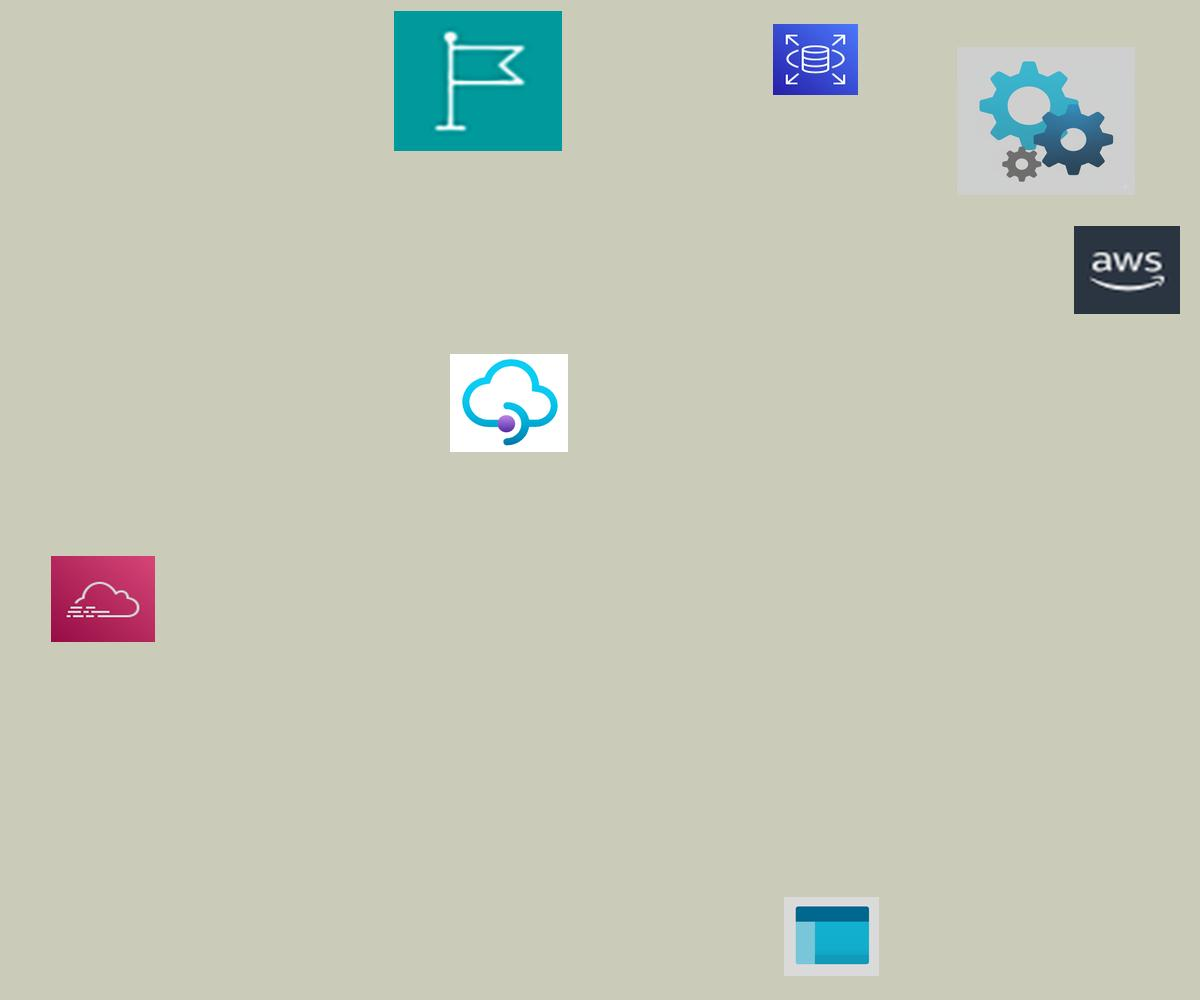AWS-Cloud-logo: (1074, 226, 1180, 314)
AWS-CloudTrail: (51, 556, 155, 642)
AWS-RDS: (773, 24, 858, 95)
AWS-Region: (394, 11, 562, 151)
Azure_api: (957, 47, 1135, 195)
Azure_api_gateway: (450, 354, 568, 452)
Azure_management-portal: (784, 897, 879, 976)
